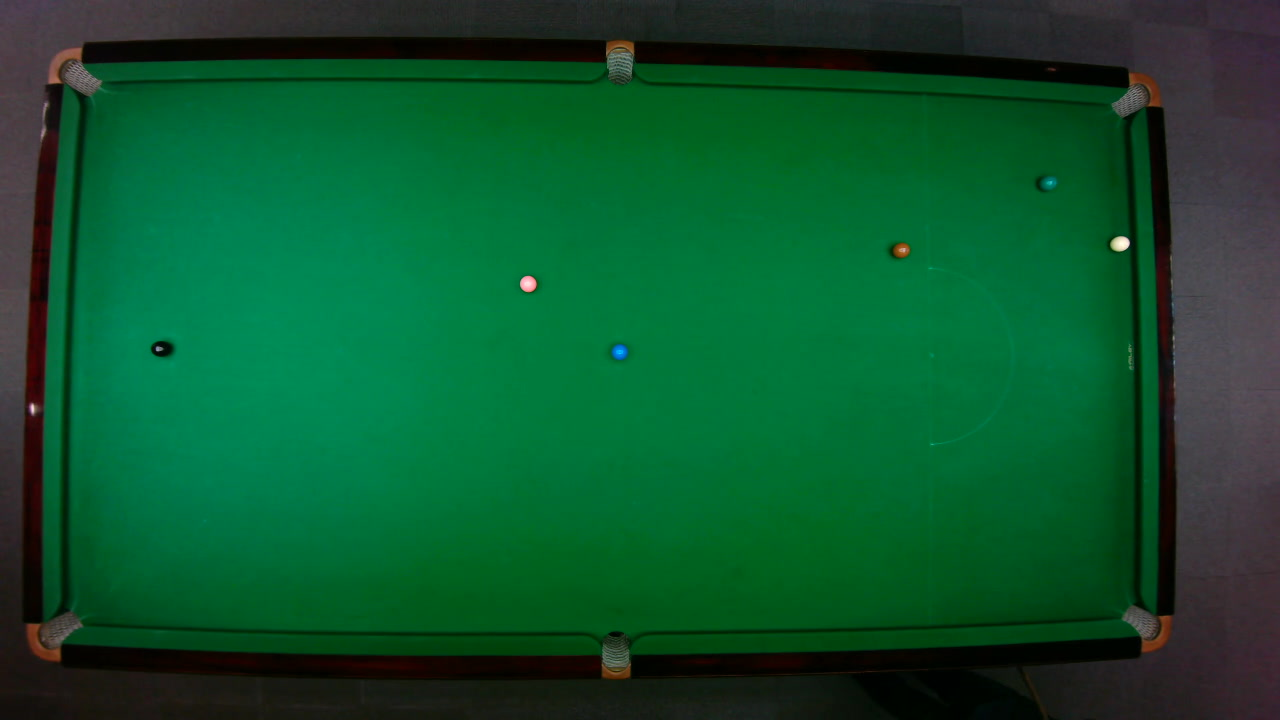bag: (24, 609, 83, 661), (46, 46, 101, 96), (1119, 603, 1171, 652), (1108, 71, 1161, 118), (600, 629, 630, 680), (605, 38, 633, 85)
black: (149, 339, 171, 357)
blue: (609, 342, 628, 360)
brown: (890, 241, 911, 258)
green: (1037, 173, 1058, 191)
pink: (517, 274, 537, 293)
white: (1108, 234, 1131, 251)
zone: (927, 266, 1013, 445)
